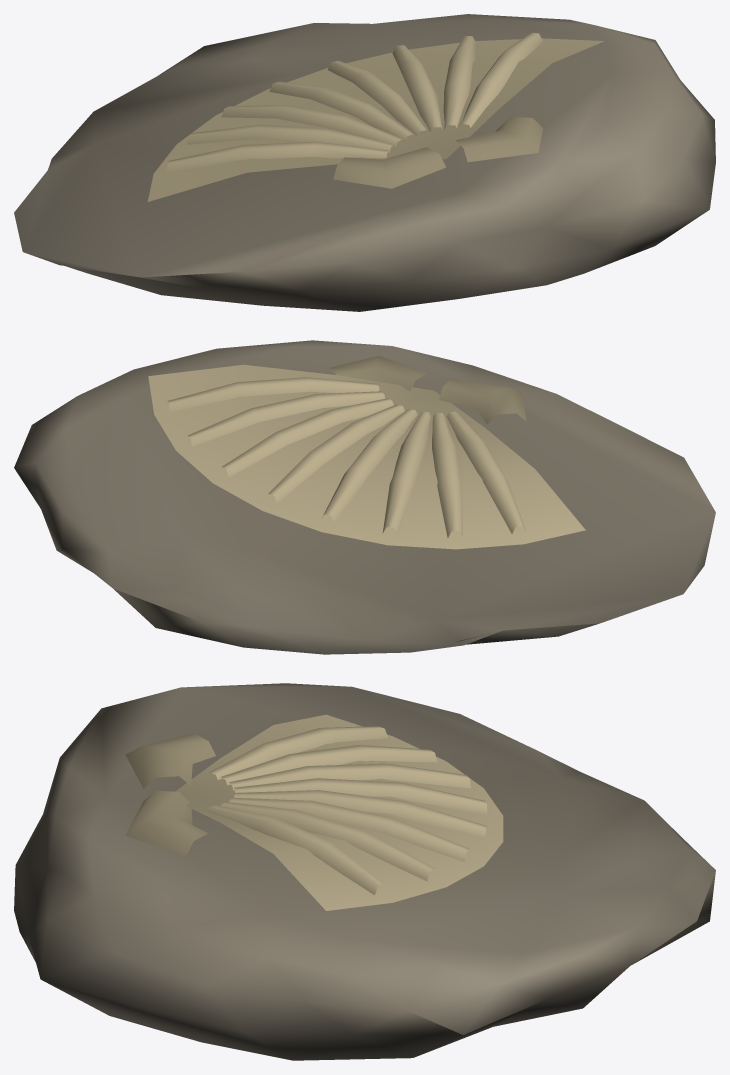
File: cave-fossil-v1.glb
3 views of the same model, one above another, from view 1: azimuth 30°, elevation 25°; view 2: azimuth 150°, elevation 25°; view 3: azimuth 270°, elevation 25° (orthographic). The views are drawn at different scales.
Parts seen in each view (by area): view 1: 0_fossil; view 2: 0_fossil; view 3: 0_fossil.
Boxes of the visible parts, x1,y1,x2,y2 form: 0_fossil: (14, 14, 715, 311); 0_fossil: (14, 340, 715, 654); 0_fossil: (14, 683, 715, 1060).
Bounding box in the file's own units: 0.493 × 0.0783 × 0.4035.
